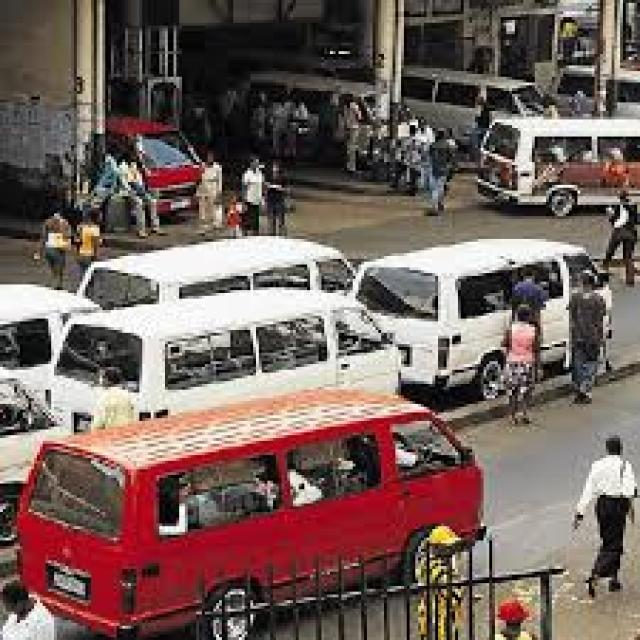MiniBus taxi: (17, 390, 495, 637), (478, 119, 640, 219)
Pedestrians: (569, 432, 637, 600), (566, 267, 609, 407), (504, 304, 544, 427)
